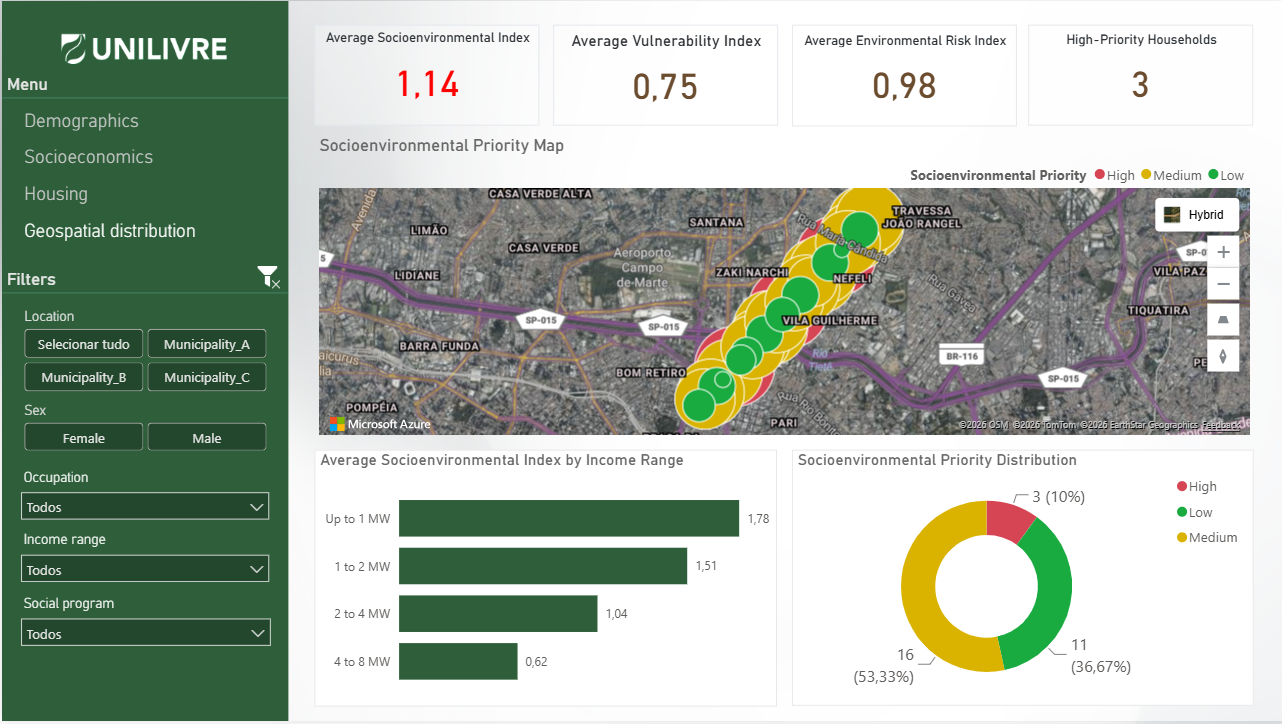

This screenshot's page, from the dashboard's own definition file:
{"tool":"powerbi","page":{"name":"Geospatial distribution","canvas":[1280,720],"ordinal":3},"visuals":[{"type":"shape","box":[0,0,286.4,720.4],"z":0},{"type":"azureMap","title":"Socioenvironmental Priority Map","fields":{"Y":["dim_location.latitude_fixed"],"X":["dim_location.longitude_fixed"],"Series":["fact_households.risk_classification"],"Size":["Max(fact_households.socioenvironmental_index)"]},"box":[312.5,133.9,939.8,305.2],"z":11000},{"type":"cardVisual","title":"Average Socioenvironmental Index","fields":{"Data":["Avg(fact_households.socioenvironmental_index)"]},"box":[312.4,23.5,225.1,100.8],"z":11001},{"type":"cardVisual","title":"Average Vulnerability Index","fields":{"Data":["Avg(fact_households.vulnerability_index)"]},"box":[550.7,23.6,225,100.7],"z":11002},{"type":"cardVisual","title":"High-Priority Households","fields":{"Data":["fact_households.High-Priority Households"]},"box":[1026.4,23.5,225.1,100.8],"z":11003},{"type":"cardVisual","title":"Average Environmental Risk Index","fields":{"Data":["Avg(fact_households.environmental_risk_index)"]},"box":[789.5,23.7,225,101.3],"z":11004},{"type":"barChart","title":"Average Socioenvironmental Index by Income Range","fields":{"Y":["Avg(fact_households.socioenvironmental_index)"],"Category":["dim_demographics.family_income_range"]},"box":[312.5,448.8,462.1,257],"z":11005},{"type":"donutChart","title":"Socioenvironmental Priority Distribution","fields":{"Y":["Count(fact_households.id_household)"],"Category":["fact_households.risk_classification"]},"box":[790.1,449.3,462,256.3],"z":11006},{"type":"image","box":[39.2,0,207.9,87.4],"z":11007},{"type":"slicer","fields":{"Values":["dim_demographics.occupation"]},"box":[8.6,461.9,268.6,71.4],"z":11008},{"type":"slicer","fields":{"Values":["dim_demographics.family_income_range"]},"box":[8.6,524.8,268.6,71.4],"z":11009},{"type":"slicer","fields":{"Values":["dim_social.program_name"]},"box":[8.6,589.1,270,72.9],"z":11010},{"type":"textbox","title":"Filters","box":[0,267.2,285.7,52.9],"z":11011},{"type":"textbox","title":"Menu","box":[0,72.3,286.2,52.7],"z":11012},{"type":"image","box":[250,265,34.2,22.4],"z":11013},{"type":"advancedSlicerVisual","title":"Sex","fields":{"Values":["households_sample.sex"]},"box":[17.1,400.6,252.6,55.3],"z":11014},{"type":"advancedSlicerVisual","title":"Location","fields":{"Values":["dim_demographics.municipality"]},"box":[17.1,305.8,252.6,89.5],"z":11015},{"type":"pageNavigator","title":"NAVEGAÇÃO","box":[12.1,99.5,259.4,149.3],"z":11016}]}

Visuals, with their boxes in screenshot pixels (x1, y1, x2, y2), scaled from the page's 1280x720 canvas onto the 1282x724 screenshot:
shape: [x1=0, y1=0, x2=287, y2=723]
"Socioenvironmental Priority Map" azureMap: [x1=313, y1=135, x2=1254, y2=442]
"Average Socioenvironmental Index" cardVisual: [x1=313, y1=24, x2=538, y2=125]
"Average Vulnerability Index" cardVisual: [x1=552, y1=24, x2=777, y2=125]
"High-Priority Households" cardVisual: [x1=1028, y1=24, x2=1253, y2=125]
"Average Environmental Risk Index" cardVisual: [x1=791, y1=24, x2=1016, y2=126]
"Average Socioenvironmental Index by Income Range" barChart: [x1=313, y1=451, x2=776, y2=710]
"Socioenvironmental Priority Distribution" donutChart: [x1=791, y1=452, x2=1254, y2=710]
image: [x1=39, y1=0, x2=247, y2=88]
slicer - dim_demographics.occupation: [x1=9, y1=464, x2=278, y2=536]
slicer - dim_demographics.family_income_range: [x1=9, y1=528, x2=278, y2=600]
slicer - dim_social.program_name: [x1=9, y1=592, x2=279, y2=666]
"Filters" textbox: [x1=0, y1=269, x2=286, y2=322]
"Menu" textbox: [x1=0, y1=73, x2=287, y2=126]
image: [x1=250, y1=266, x2=285, y2=289]
"Sex" advancedSlicerVisual: [x1=17, y1=403, x2=270, y2=458]
"Location" advancedSlicerVisual: [x1=17, y1=307, x2=270, y2=397]
"NAVEGAÇÃO" pageNavigator: [x1=12, y1=100, x2=272, y2=250]
